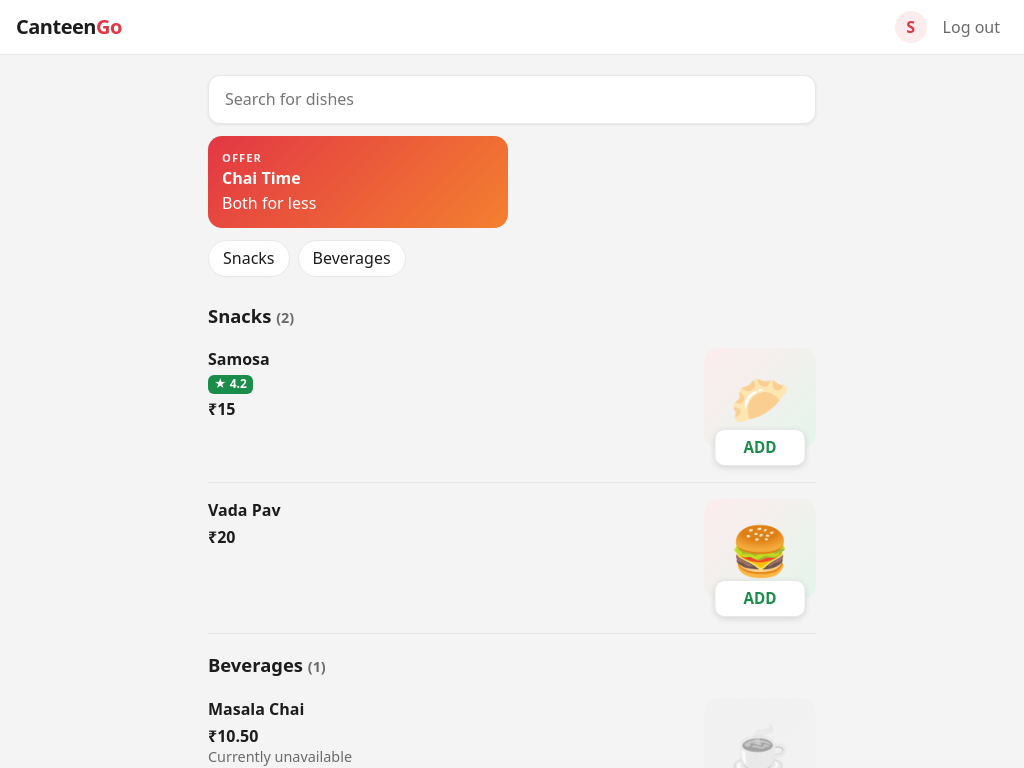
Scenario: pickup picker › shows the rush right now and for time windows, and lets the student choose
This screenshot has width=1024, height=768.
Expected: the heading "Samosa" is shown, [208,348,270,370]
Click the button with aria-label "add samosa". click: (760, 448)
box: [714,429,806,466]
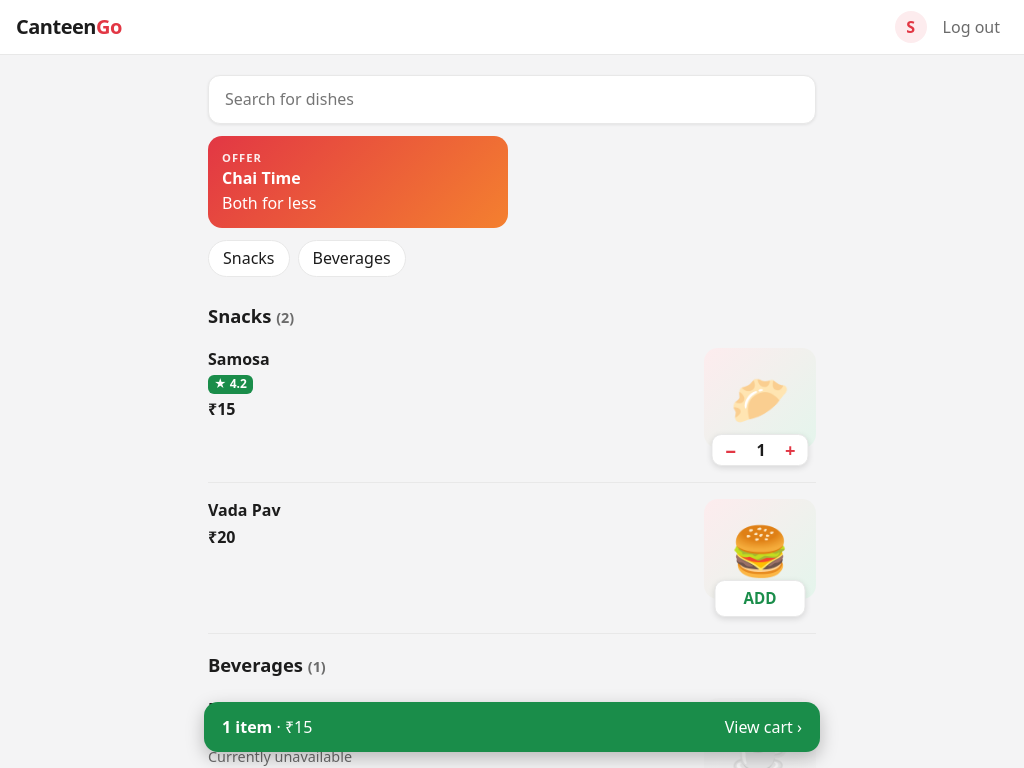
Click the text "View cart ›". click: (763, 727)
box: [725,716,802,738]
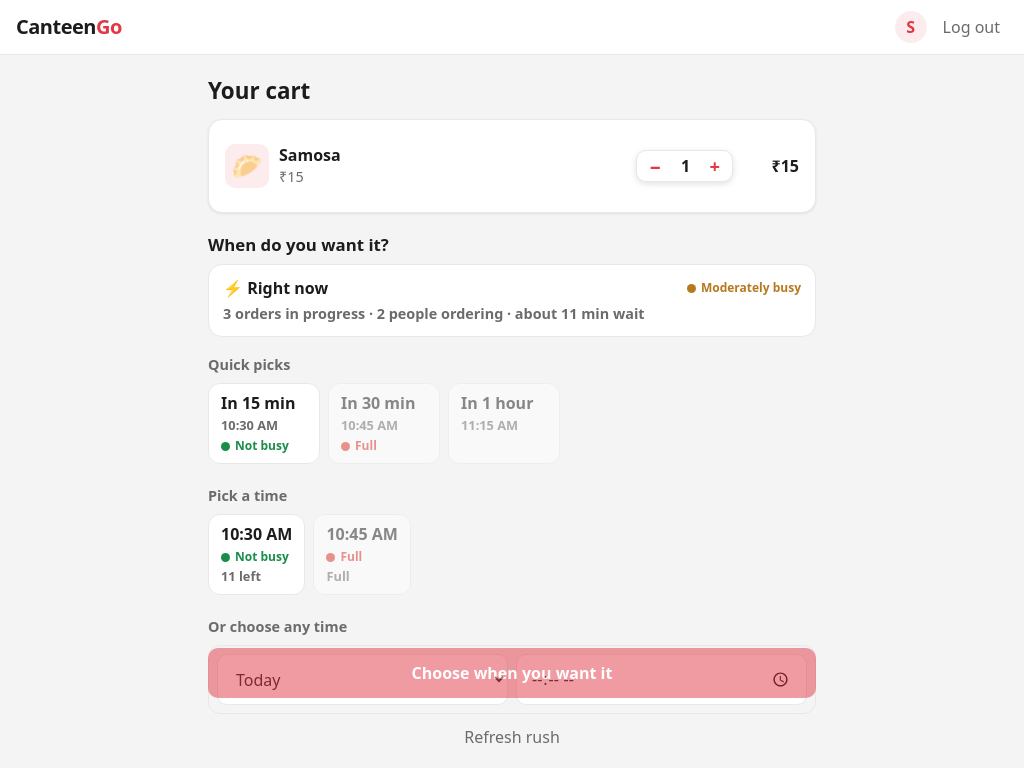
Now the text "3 orders in progress · 2 people ordering · about 11 min wait" is shown, box [223,304,645,323]
Now the text "Moderately busy" is shown, box [687,280,801,297]
Now the 1st text "Full" is shown, box [341,438,377,455]
Click the button "Right now". click: (276, 288)
box: [208,264,816,337]
(page scrolled)
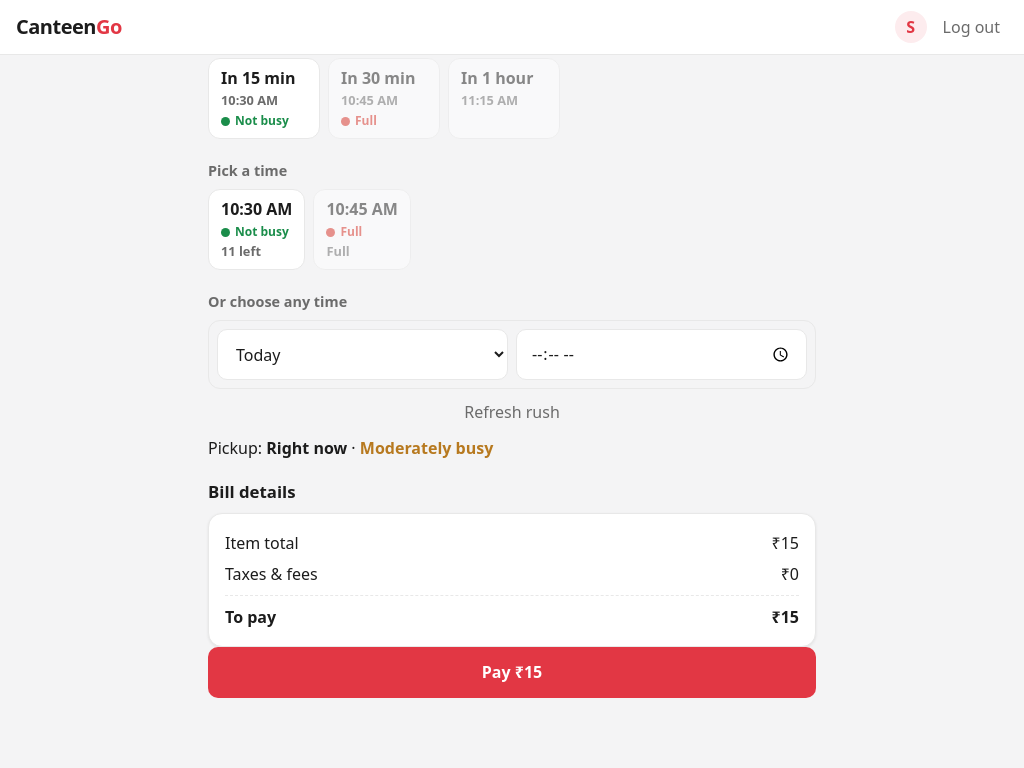
Now the button "Pay ₹15" is enabled, box [208,648,816,698]
Now the text "Pickup: Right now · Moderately busy" is shown, box [208,437,493,459]
